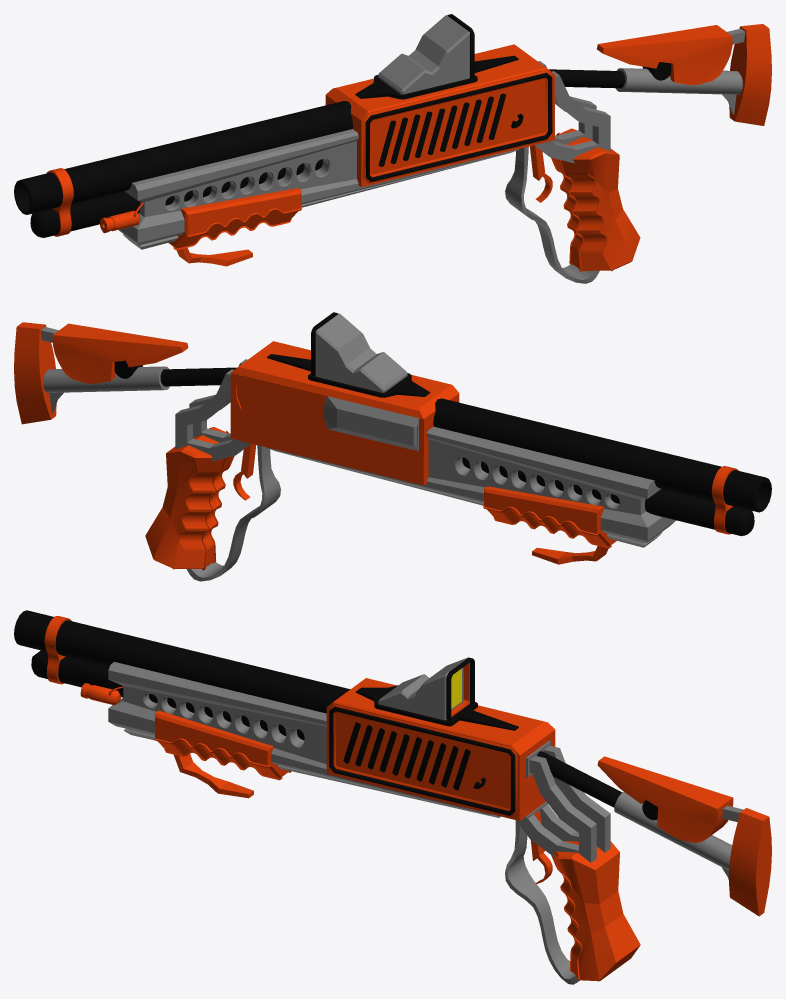
Rendered from Shotgun.fbx.
3 views of the same model, one above another, from view 1: azimuth 30°, elevation 25°; view 2: azimuth 150°, elevation 25°; view 3: azimuth 330°, elevation 25° (orthographic).
Parts seen in each view (by area): view 1: Shotgun; view 2: Shotgun; view 3: Shotgun.
Boxes of the visible parts, left/top/right/bottom form: Shotgun: left=14, top=14, right=771, bottom=283; Shotgun: left=14, top=312, right=771, bottom=581; Shotgun: left=14, top=610, right=771, bottom=984.
Size of the model in its own units: 2180 by 796 by 210.
